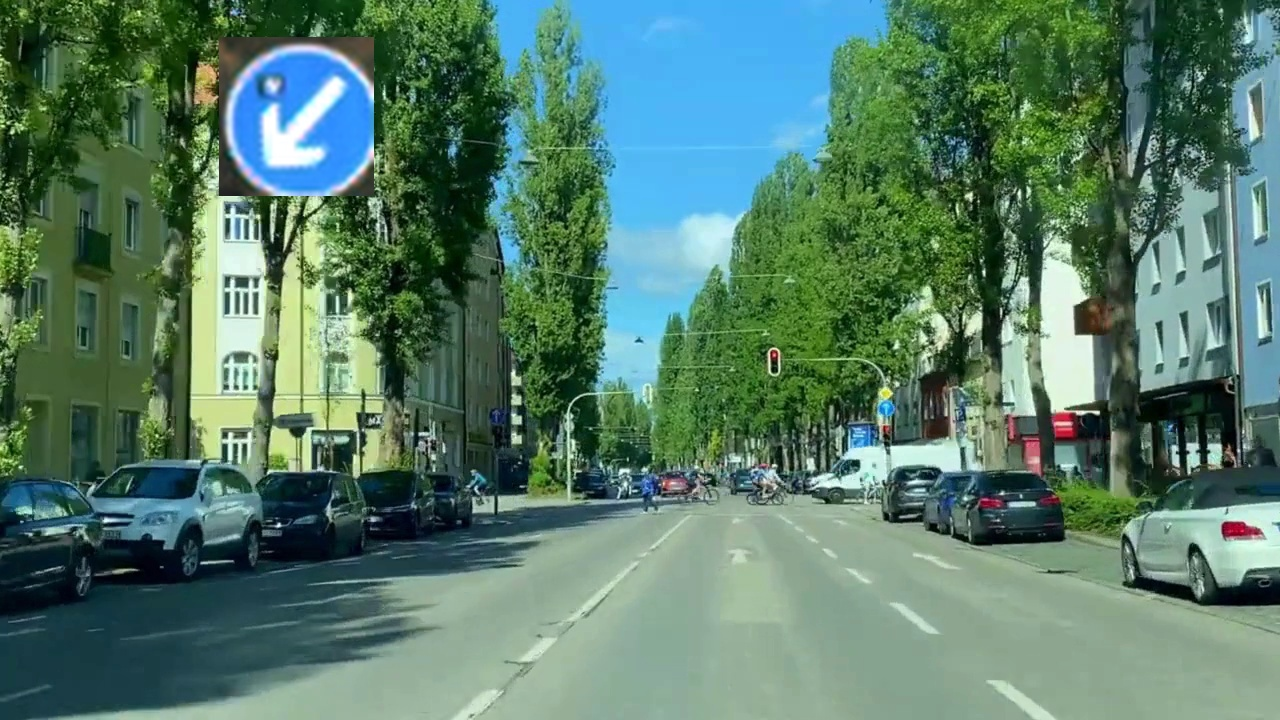Keep left: (219, 37, 374, 196)
